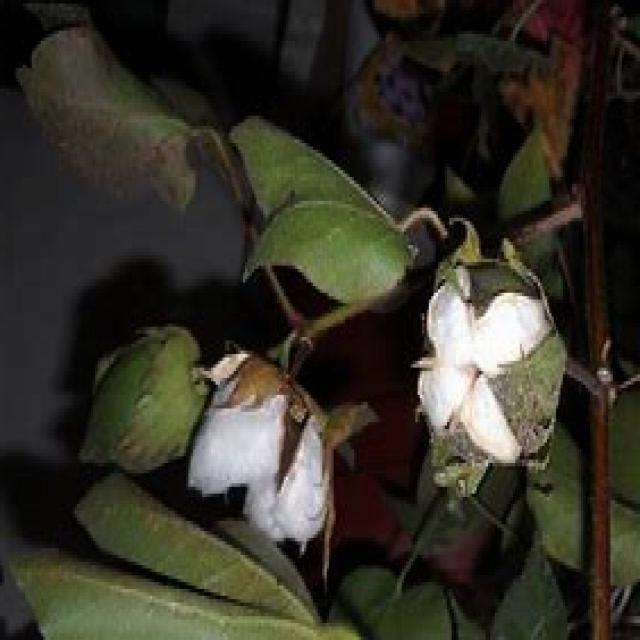Early Boll: (86, 326, 198, 474)
Matured Cotton Boll: (192, 352, 350, 542)
Split Cotton Boll: (416, 247, 564, 485)
